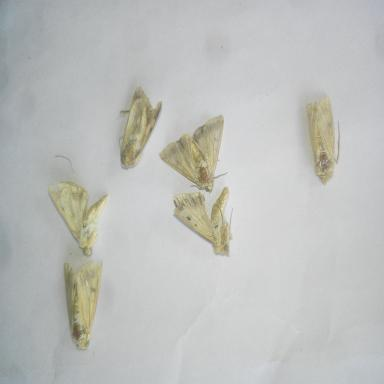abw: (156, 107, 232, 201), (45, 176, 112, 261), (58, 254, 107, 356), (115, 81, 167, 177), (170, 184, 236, 259), (302, 91, 344, 191)
